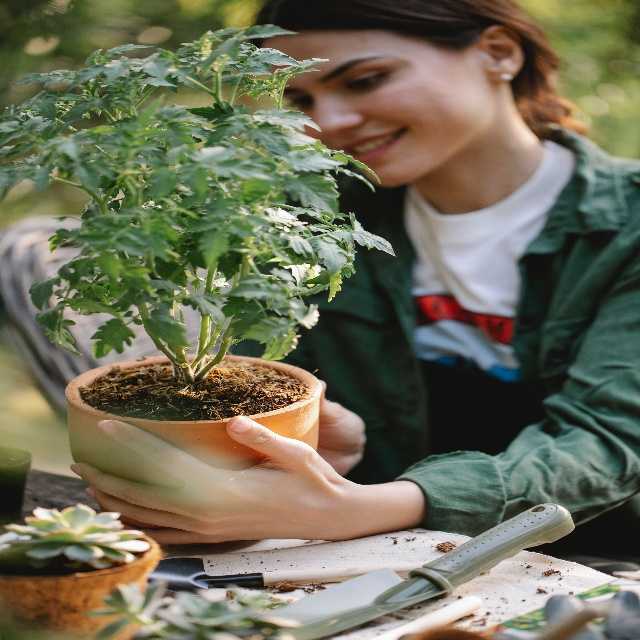Sin_guantes: (70, 415, 342, 545), (317, 378, 367, 476)
